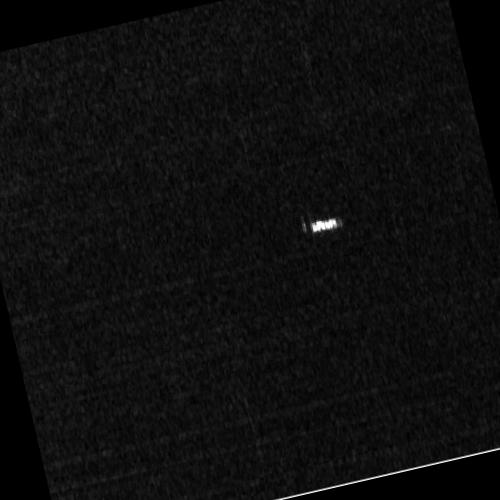ship: (310, 217, 342, 233)
